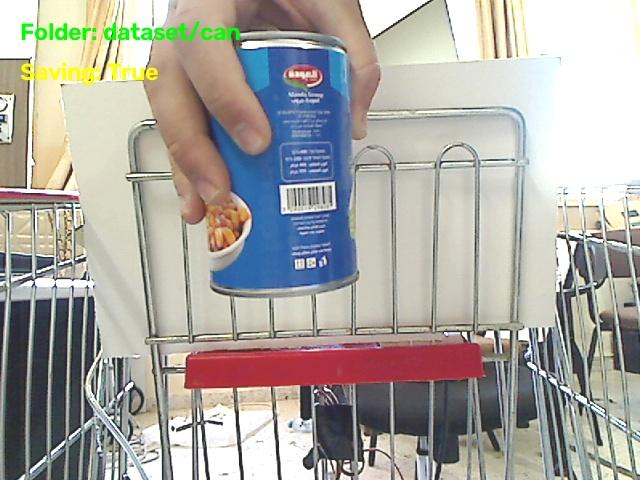can: (207, 32, 357, 296)
